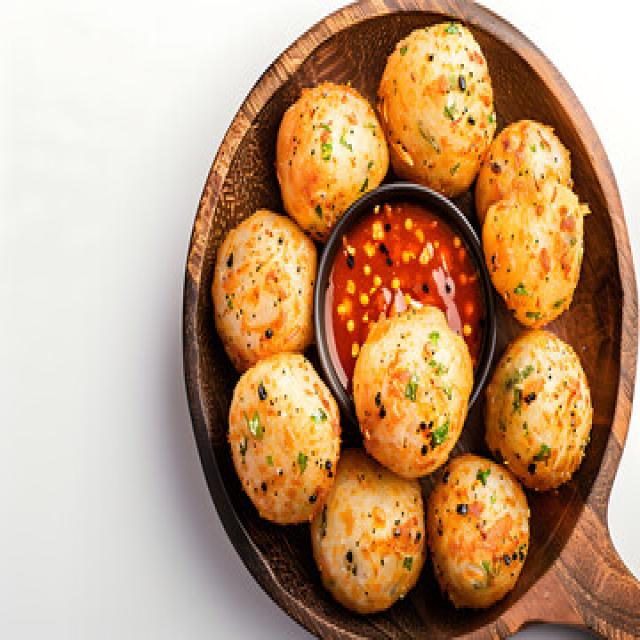BONDA: (214, 20, 595, 615)
RED CHUTNEY: (325, 185, 494, 399)
